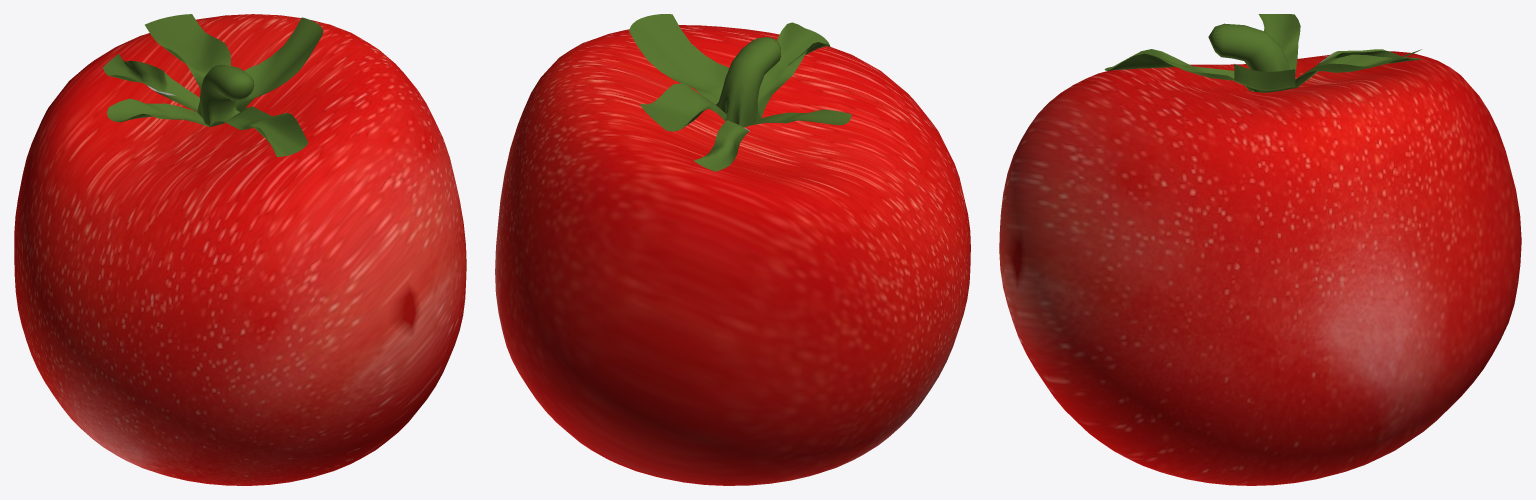
File: Tomato 1.fbx
3 views of the same model, side by side, from view 1: azimuth 30°, elevation 25°; view 2: azimuth 150°, elevation 25°; view 3: azimuth 270°, elevation 25° (orthographic). The views are drawn at different scales.
Visible parts, largest first — view 1: pSphere7; view 2: pSphere7; view 3: pSphere7.
Part boxes in pixels (x1,y1,x2,y2): pSphere7: (14, 14, 466, 485); pSphere7: (495, 14, 970, 485); pSphere7: (999, 14, 1521, 485).
Bounding box in the file's own units: 1.85 × 1.78 × 2.03.
